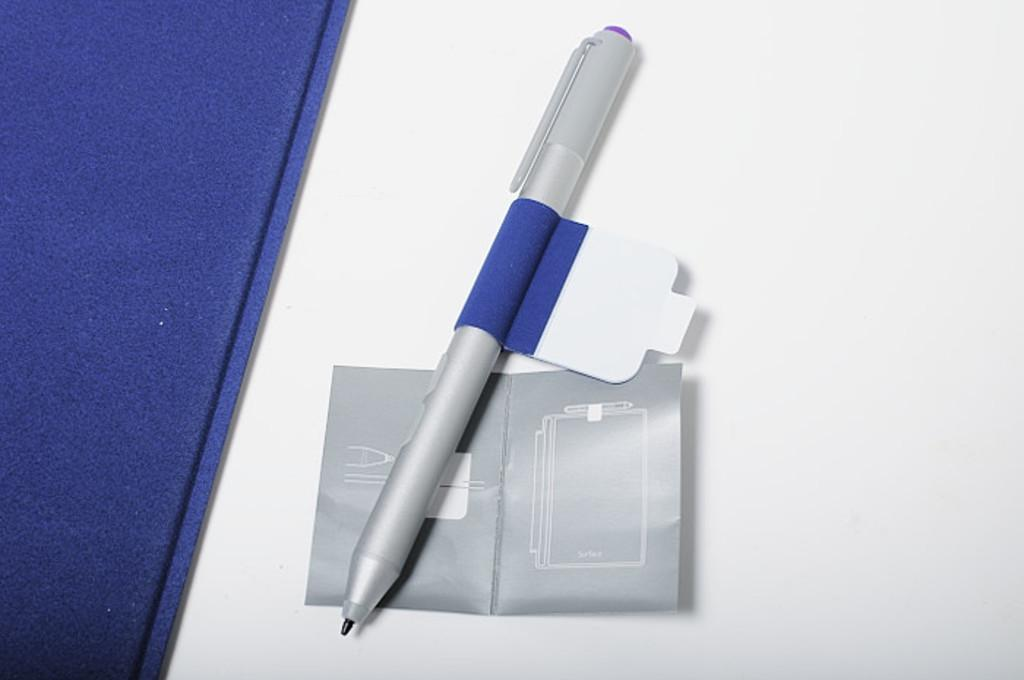pen: (334, 18, 693, 635)
